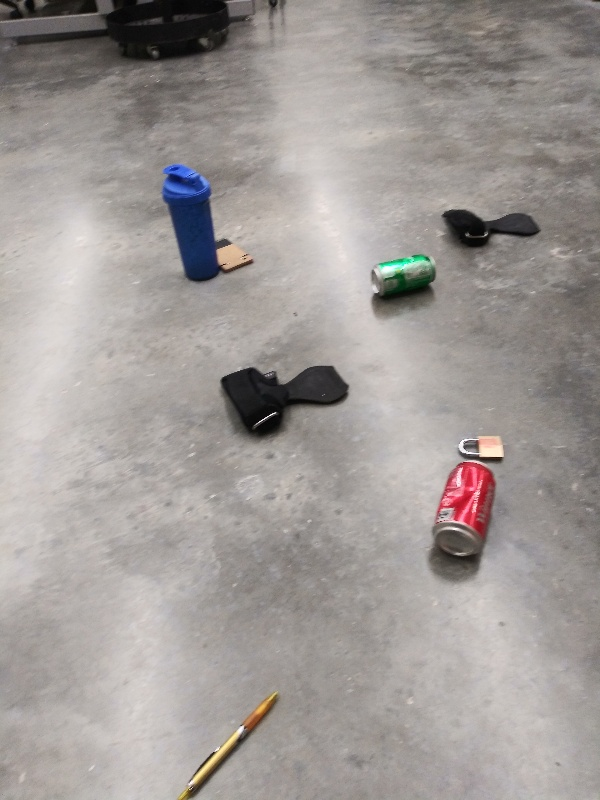can: (430, 459, 501, 562), (365, 252, 438, 302)
